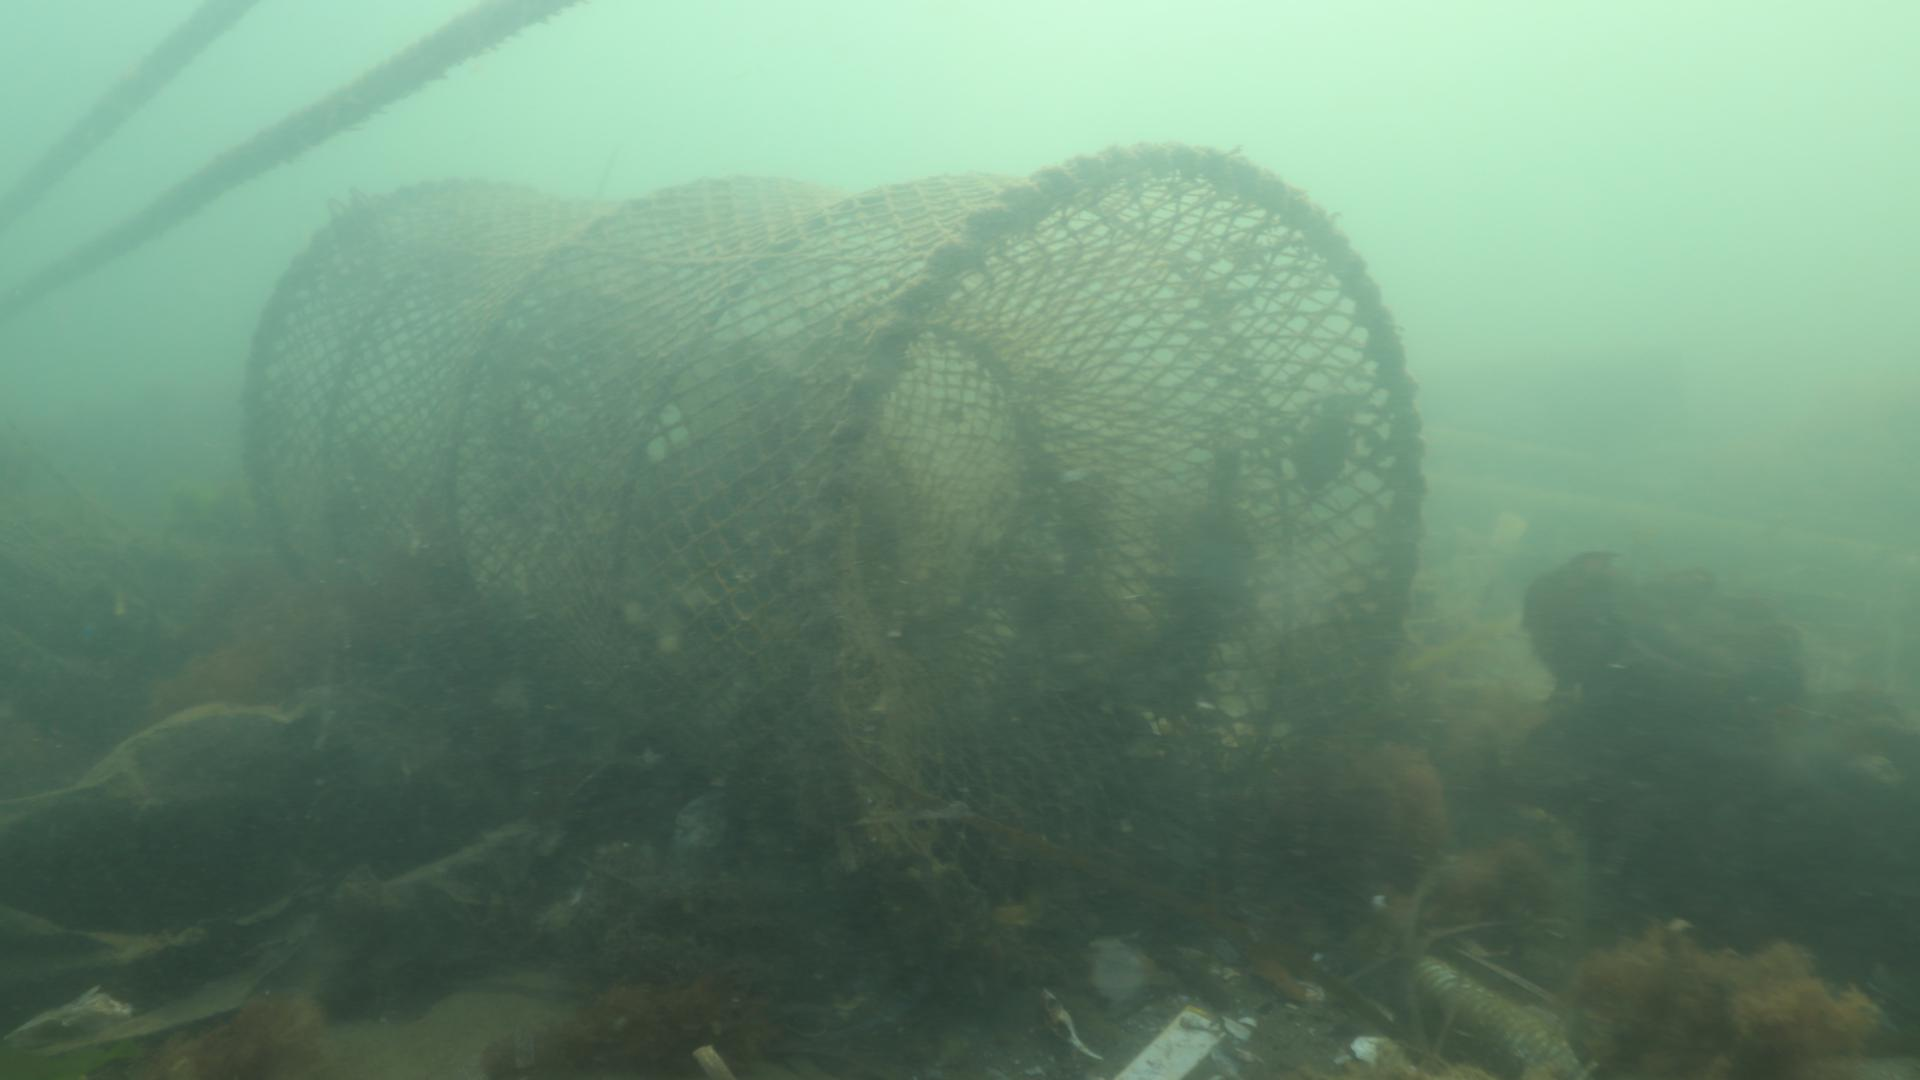rope: (0, 0, 571, 303), (0, 1, 257, 222)
spring fish trap: (237, 140, 1418, 993)
